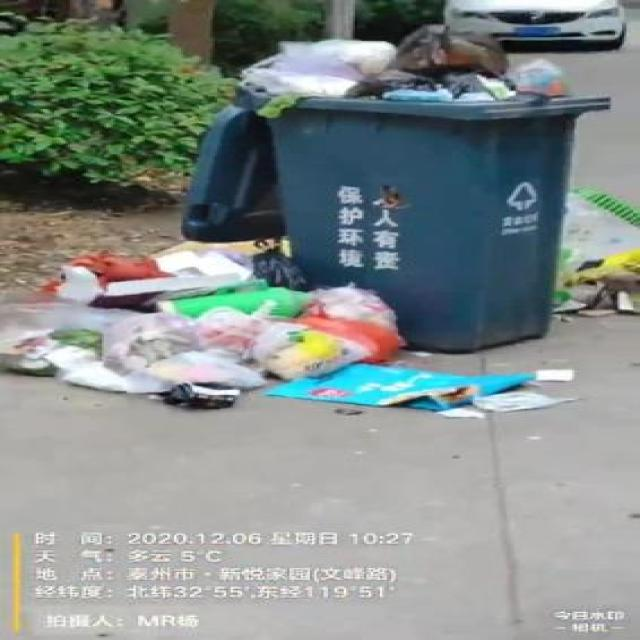garbage: (0, 241, 572, 416), (550, 189, 638, 314)
overflow: (181, 24, 611, 353)
